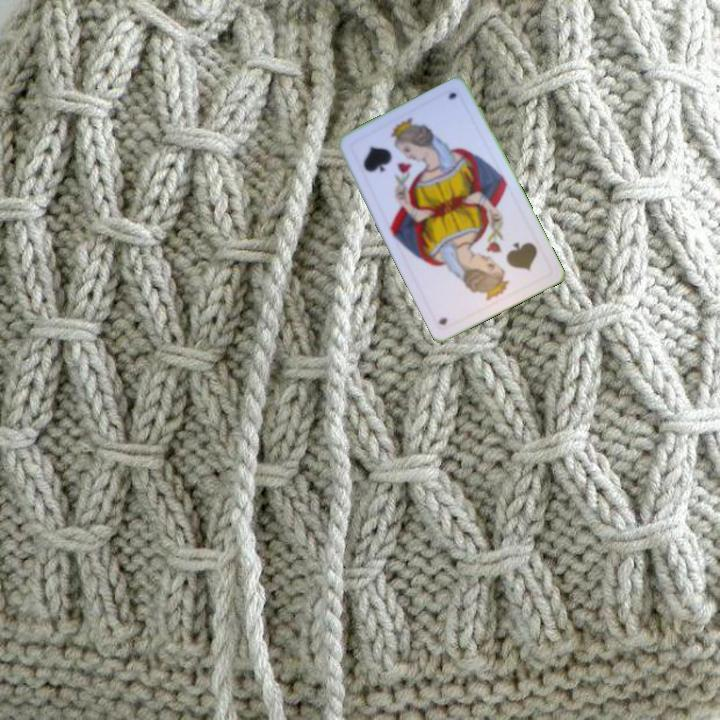s_q.png: (346, 114, 430, 194), (470, 223, 554, 303)
